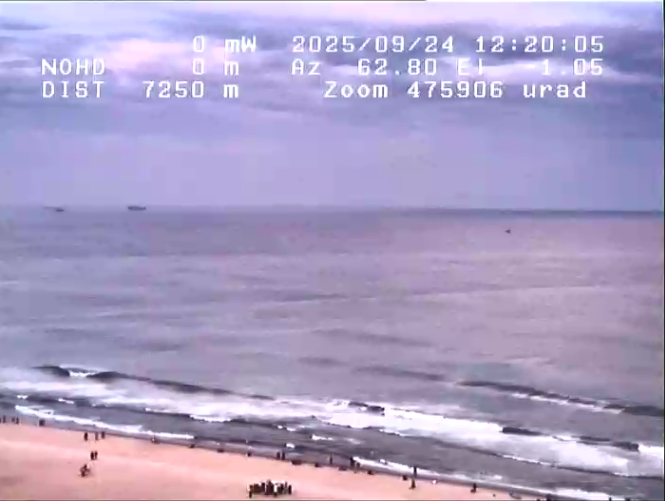TANKER: (30, 196, 75, 217), (120, 201, 158, 214)
